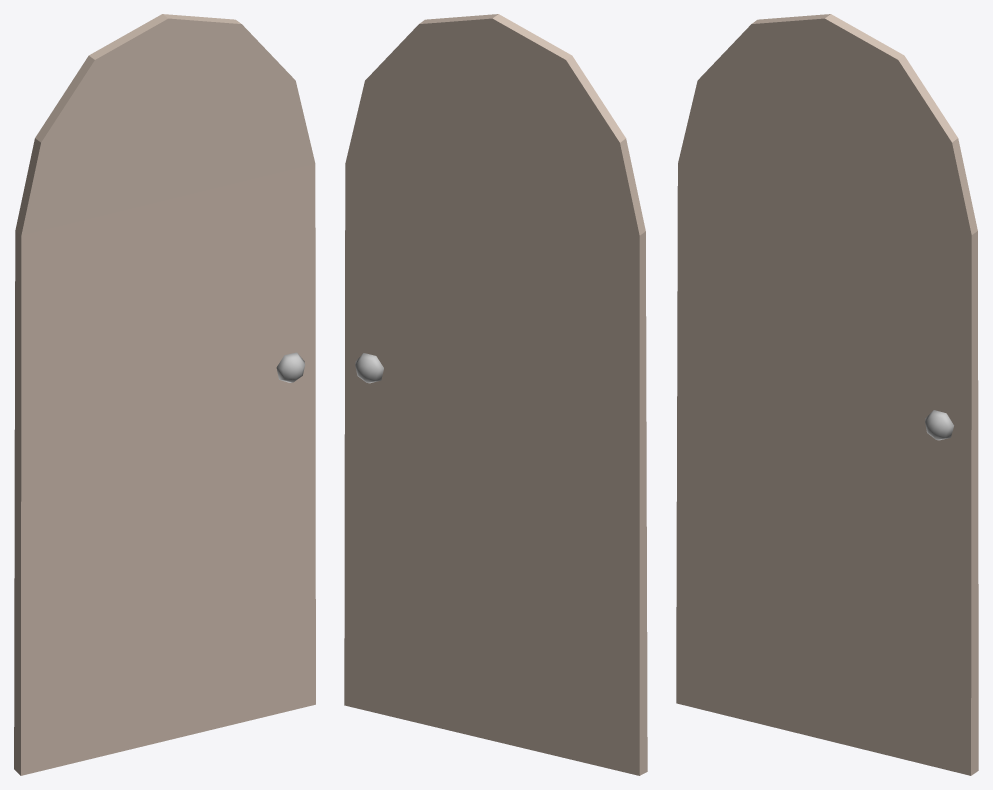
File: env_door_arch.fbx
The picture shows the model from 3 angles, left to right: view 1: azimuth 30°, elevation 25°; view 2: azimuth 150°, elevation 25°; view 3: azimuth 330°, elevation 25°; orthographic projection.
Parts seen in each view (by area): view 1: Casa puerta arco; view 2: Casa puerta arco; view 3: Casa puerta arco.
Part boxes in pixels (x1=…): Casa puerta arco: x1=14, y1=14, x2=315, y2=775; Casa puerta arco: x1=344, y1=14, x2=647, y2=775; Casa puerta arco: x1=676, y1=14, x2=978, y2=775.
Bounding box in the file's own units: 90 × 210 × 14.
2 materials, 2 textured.
